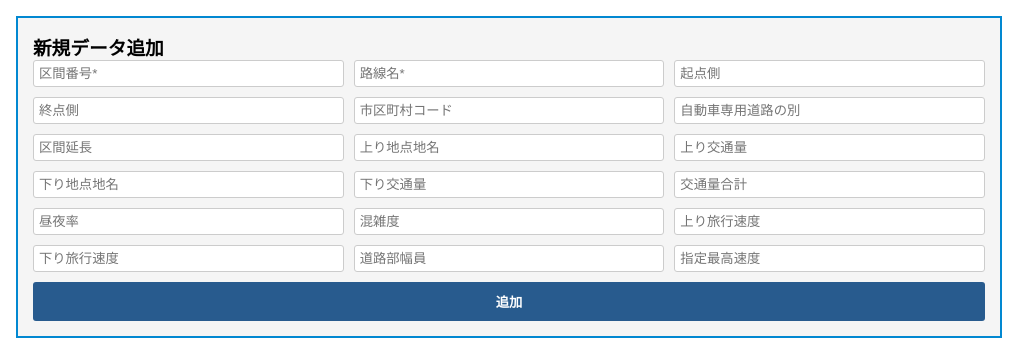
Test case: AddForm › 入力した内容でonAddが呼ばれ，送信後にフォームがリセットされる
The image size is (1019, 355).
Type "5" into the number field with placeholder "区間番号*" at (188, 74), box x1=33 y1=60 x2=344 y2=87
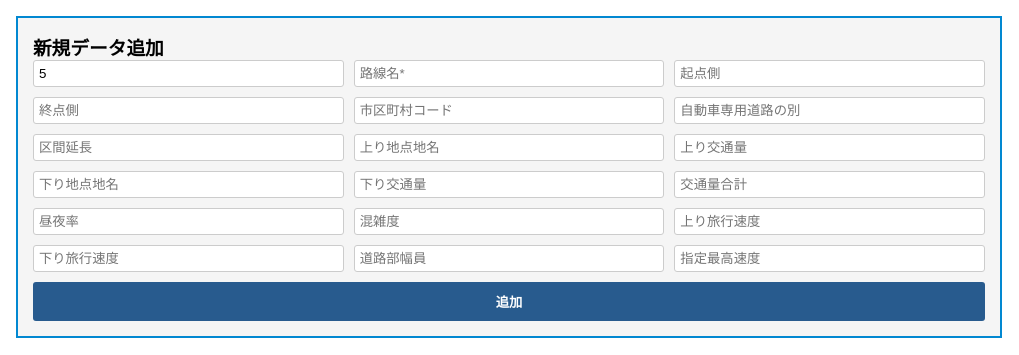
Type "国道1号" into the field with placeholder "路線名*" at (509, 74), box x1=354 y1=60 x2=664 y2=87
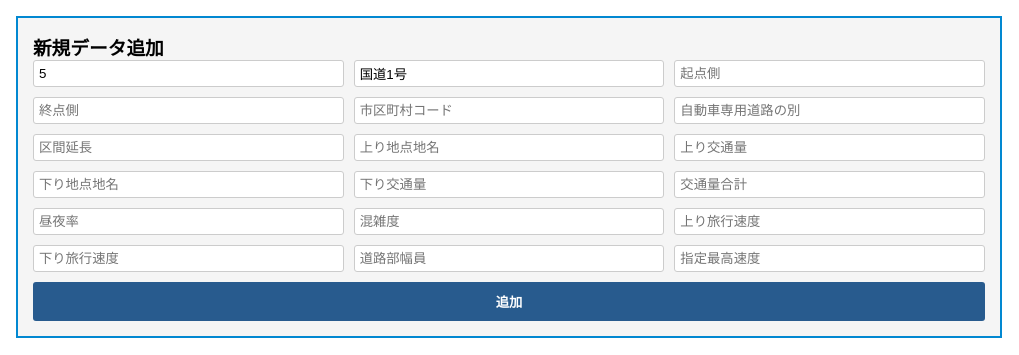
Click the button "追加" at (509, 302), box x1=33 y1=282 x2=985 y2=321
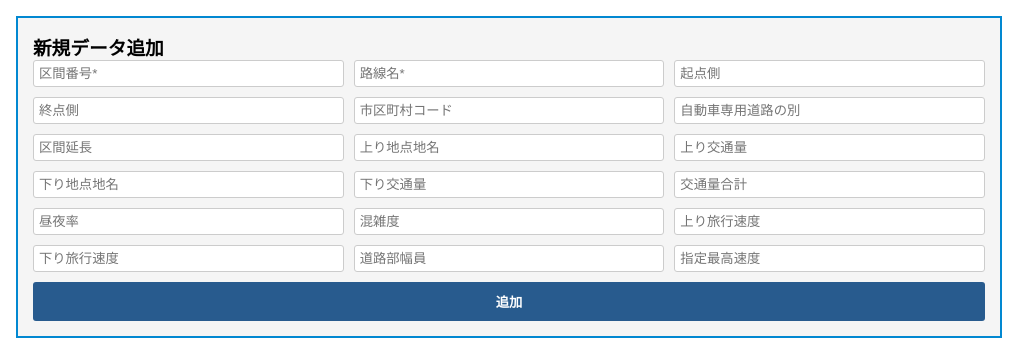
Now the number field with placeholder "区間番号*" is not empty, box x1=33 y1=60 x2=344 y2=87
Now the field with placeholder "路線名*" is empty, box x1=354 y1=60 x2=664 y2=87
